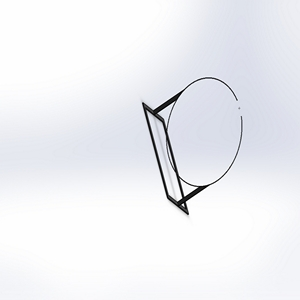circle: (139, 74, 246, 216)
